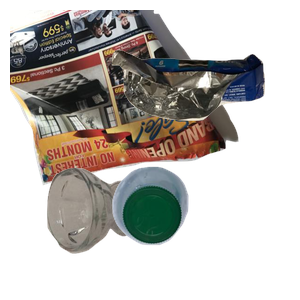glass: (44, 165, 178, 300)
paper: (10, 10, 241, 188)
plastic: (110, 164, 300, 300)
trash: (109, 47, 300, 160)
